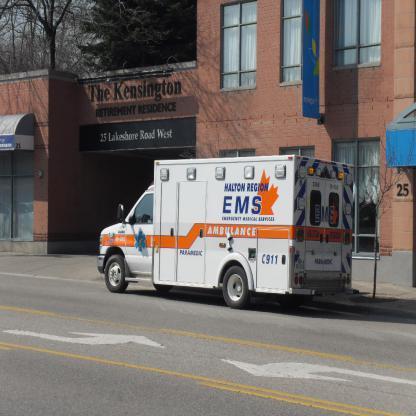Ambulance - v1 Ambulance last generate: (97, 148, 356, 307)
